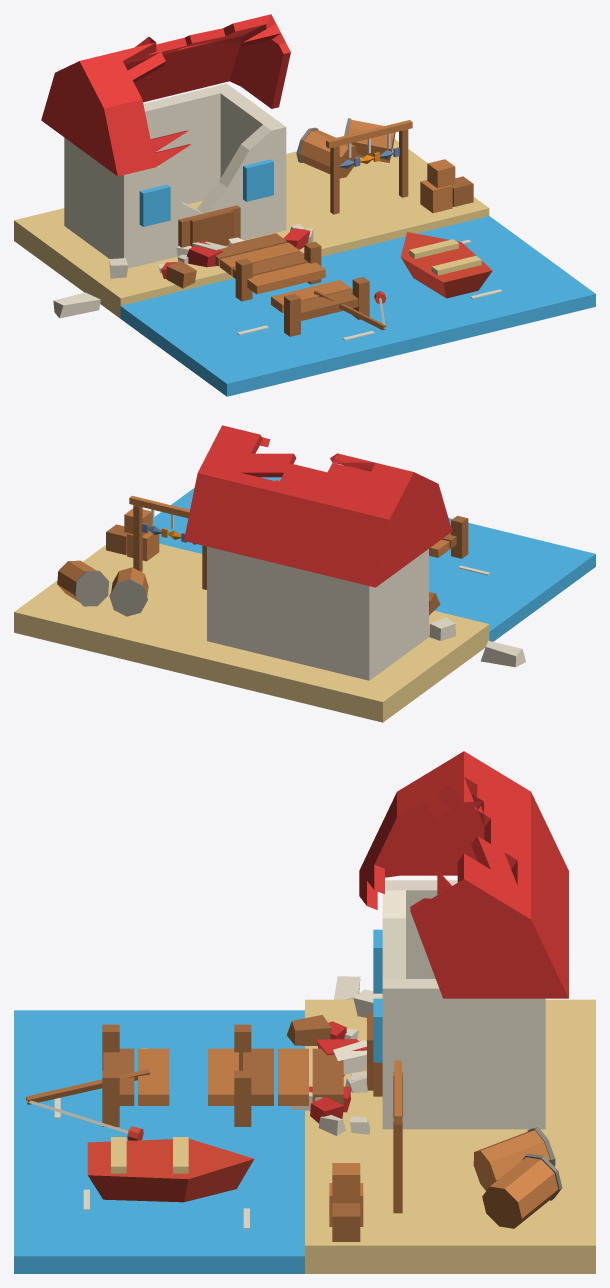
File: fishery_t2_v3_dmg1.glb
3 views of the same model, one above another, from view 1: azimuth 30°, elevation 25°; view 2: azimuth 150°, elevation 25°; view 3: azimuth 270°, elevation 25° (orthographic). The views are drawn at different scales.
Parts seen in each view (by area): view 1: fishery_t2_v3_dmg1; view 2: fishery_t2_v3_dmg1; view 3: fishery_t2_v3_dmg1.
Part boxes in pixels (bbox=[...]): fishery_t2_v3_dmg1: bbox=[14, 14, 595, 396]; fishery_t2_v3_dmg1: bbox=[14, 425, 595, 722]; fishery_t2_v3_dmg1: bbox=[14, 751, 595, 1273].
Bounding box in the file's own units: 0.8493 × 0.4109 × 0.75.
1 material, 1 textured.
